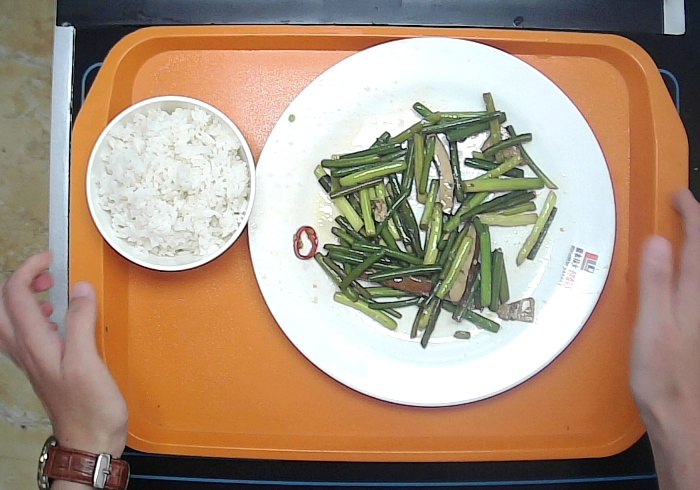ZNLD-Da_Yuan_Pan: (246, 33, 618, 408)
ZNLD-Fan_Wan: (82, 93, 258, 273)
